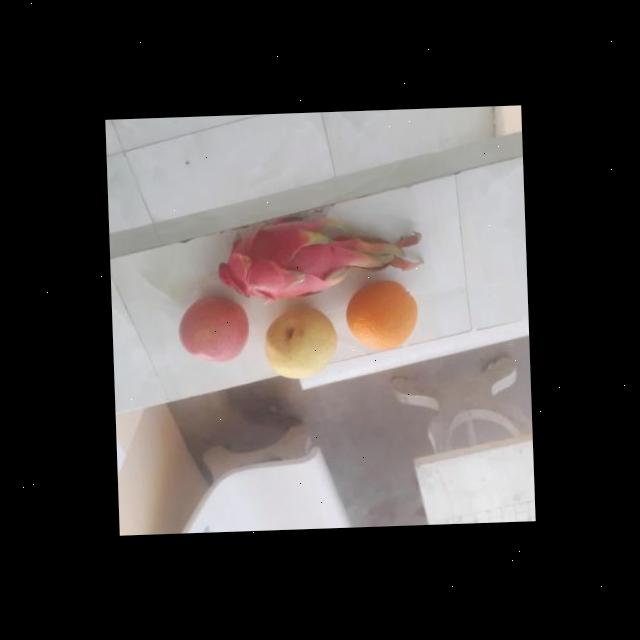apple: (174, 295, 252, 364)
orange: (341, 278, 419, 352)
pear: (259, 302, 342, 378)
pitaya: (204, 217, 351, 305)
